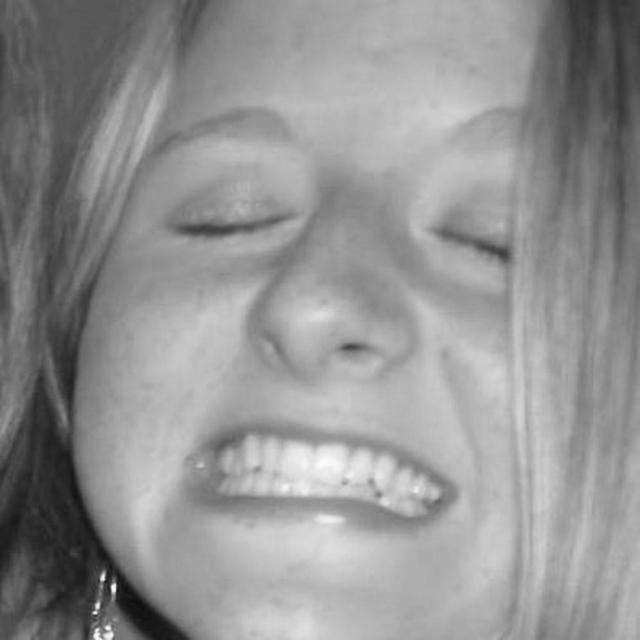real: (53, 0, 640, 640), (144, 169, 560, 276)
